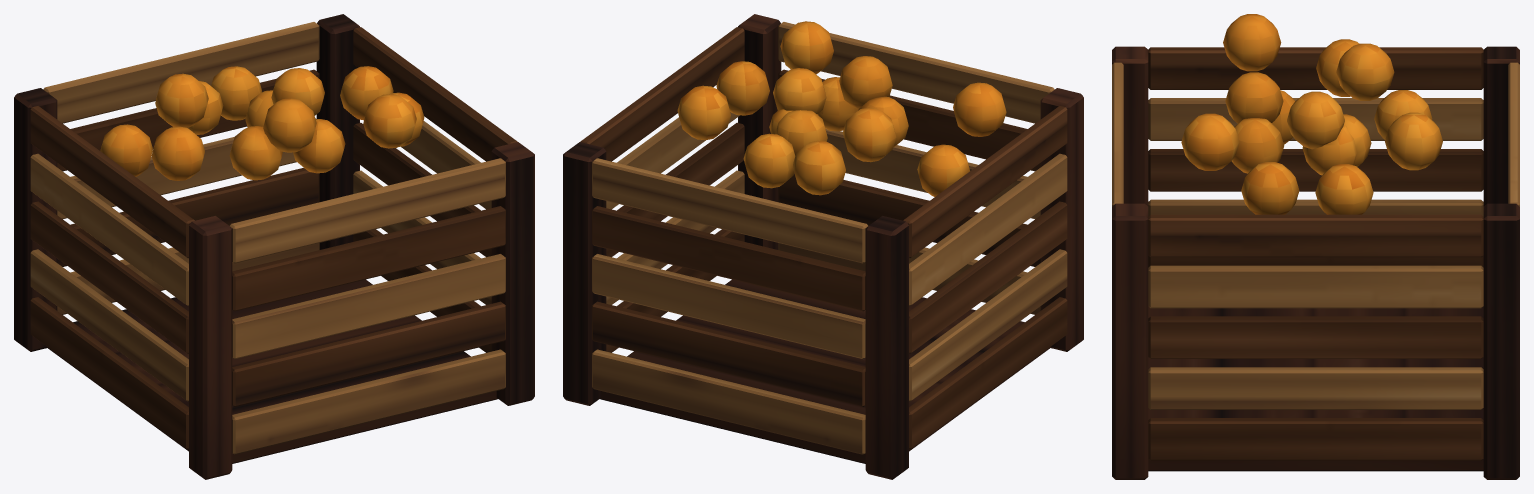
File: crate_wood.glb
3 views of the same model, side by side, from view 1: azimuth 30°, elevation 25°; view 2: azimuth 150°, elevation 25°; view 3: azimuth 270°, elevation 25° (orthographic). The views are drawn at different scales.
Parts seen in each view (by area): view 1: crate_wood; view 2: crate_wood; view 3: crate_wood.
Part boxes in pixels (bbox=[...]): crate_wood: bbox=[14, 14, 534, 479]; crate_wood: bbox=[563, 14, 1083, 479]; crate_wood: bbox=[1112, 14, 1519, 479].
Bounding box in the file's own units: 0.56 × 0.475 × 0.56.
4 materials, 4 textured.
